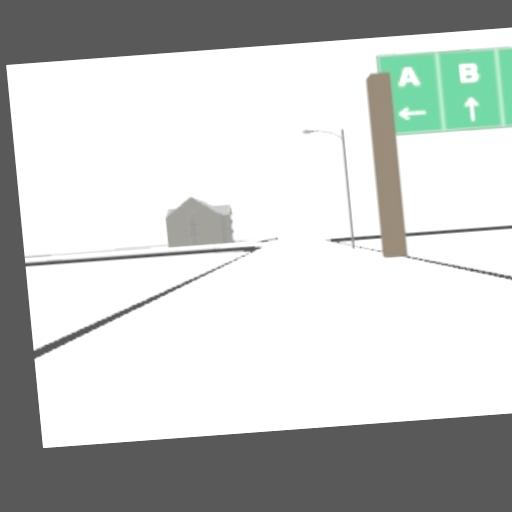A: (396, 63, 419, 86)
B: (456, 60, 478, 82)
Left: (395, 105, 427, 120)
Straight: (463, 94, 478, 120)
